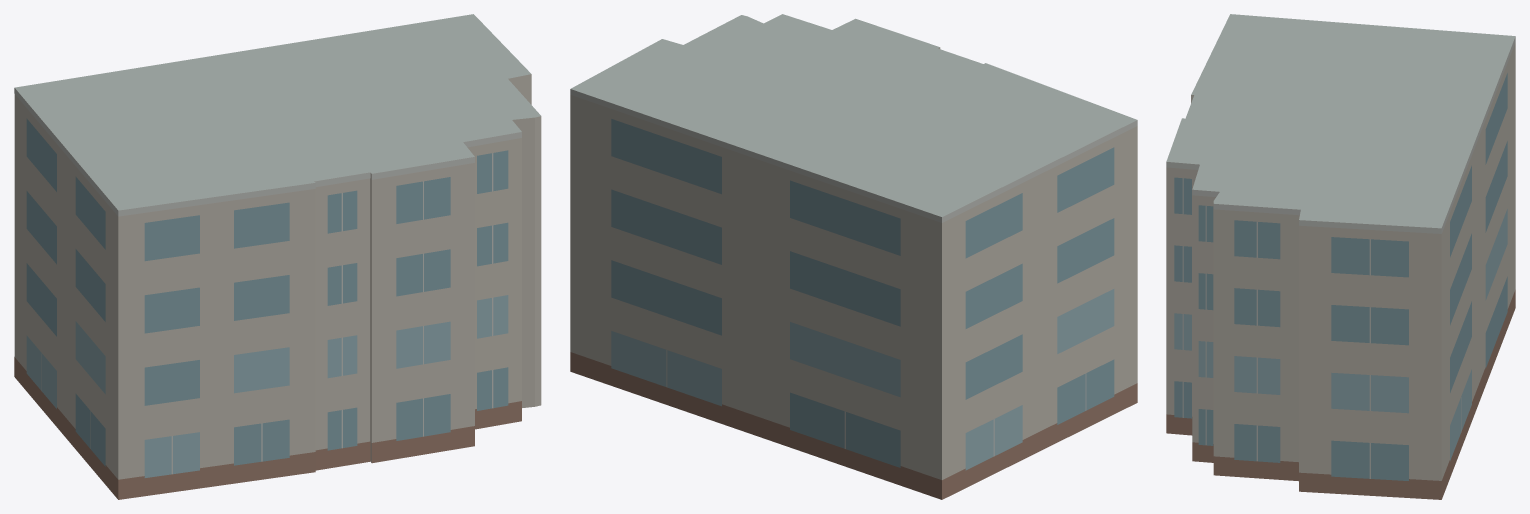
File: survey-upis-32595438.glb
3 views of the same model, side by side, from view 1: azimuth 30°, elevation 25°; view 2: azimuth 150°, elevation 25°; view 3: azimuth 270°, elevation 25° (orthographic). The views are drawn at different scales.
Visible parts, largest first — view 1: survey-upis-32595438.tmp; view 2: survey-upis-32595438.tmp; view 3: survey-upis-32595438.tmp.
Boxes of the visible parts, x1,y1,x2,y2 form: survey-upis-32595438.tmp: [14, 14, 541, 499]; survey-upis-32595438.tmp: [570, 14, 1137, 499]; survey-upis-32595438.tmp: [1166, 14, 1515, 499].
Size of the model in its own units: 19.9 by 11.75 by 13.71.
